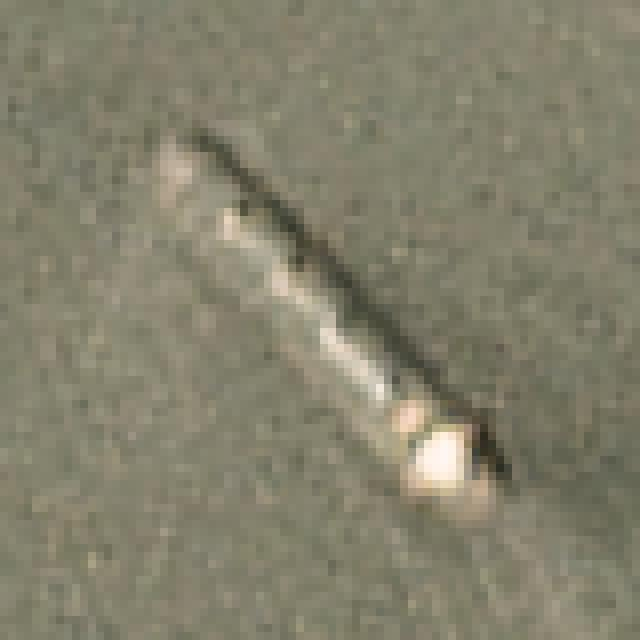ship: (137, 112, 540, 554)
